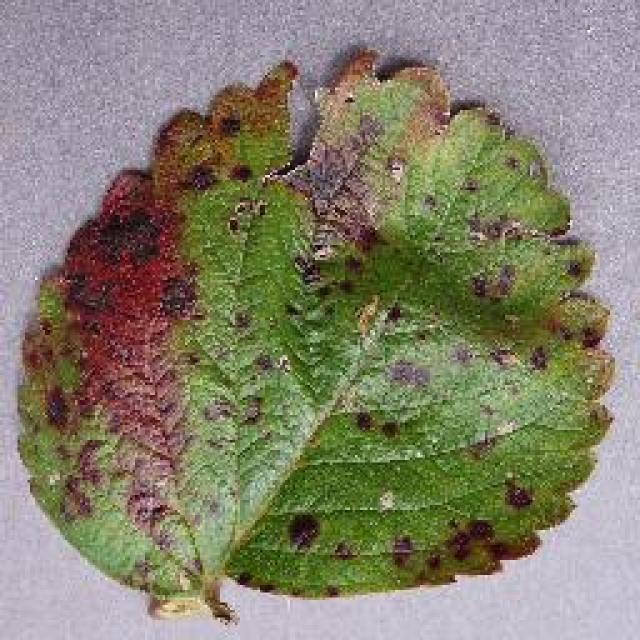Strawberry leaf scorch: (69, 160, 544, 532)
